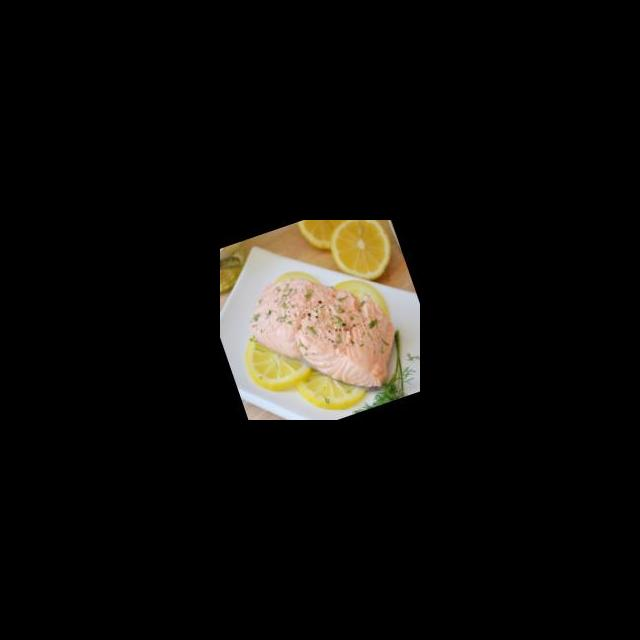ca hoi: (235, 245, 415, 420)
